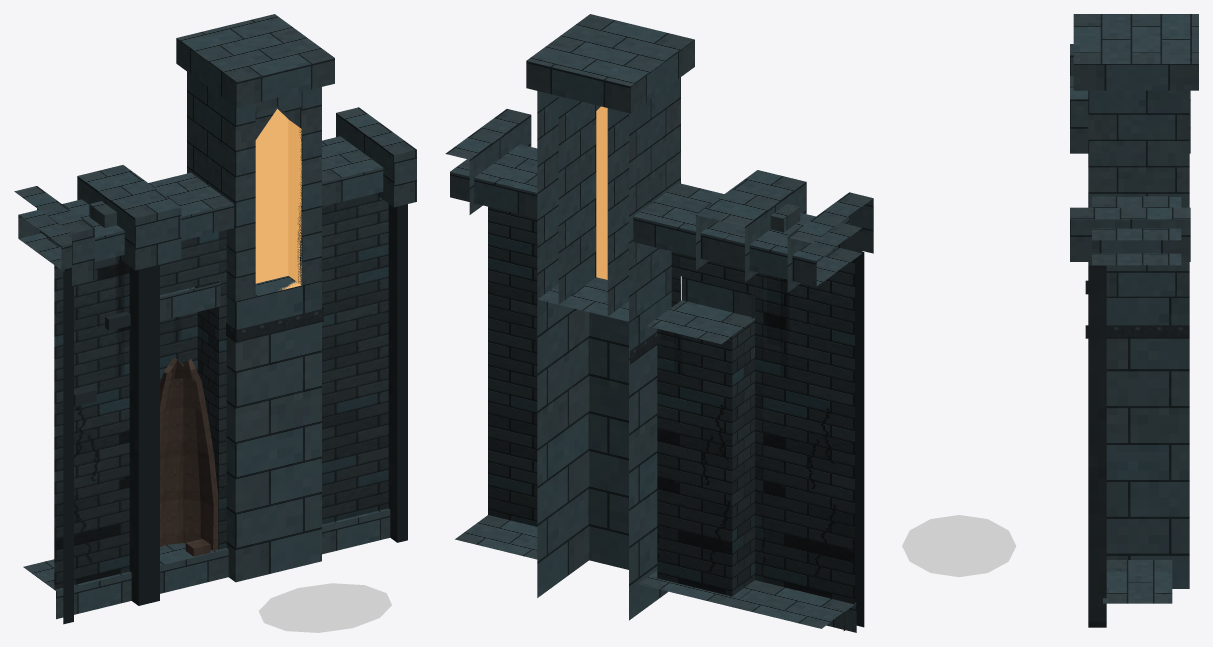
Rendered from T1_Mid_A.fbx.
3 renders of one model, left to right at view 1: azimuth 30°, elevation 25°; view 2: azimuth 150°, elevation 25°; view 3: azimuth 270°, elevation 25°, orthographic. The views are drawn at different scales.
Parts seen in each view (by area): view 1: T1_Mid_A; view 2: T1_Mid_A; view 3: T1_Mid_A.
Part boxes in pixels (box(x1,y1,x2,y2)): T1_Mid_A: box(14, 14, 416, 632); T1_Mid_A: box(445, 14, 873, 632); T1_Mid_A: box(902, 14, 1198, 627).
Size of the model in its own units: 4.5 by 6.32 by 3.22.
